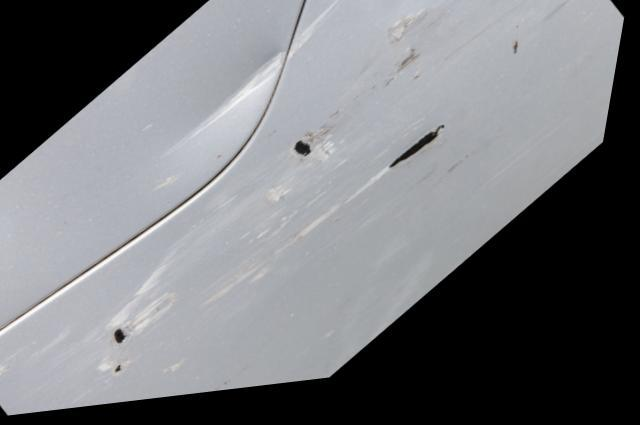dent: (183, 53, 290, 146)
scratch: (0, 0, 628, 416)
